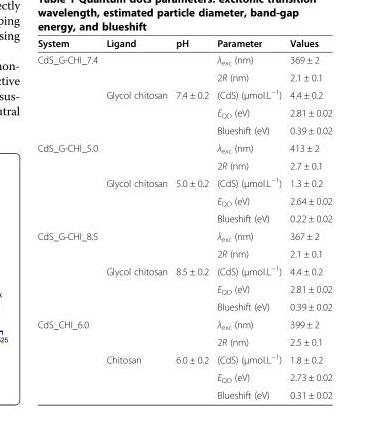table: (36, 37, 331, 400)
table column: (212, 37, 285, 400), (101, 37, 171, 400), (36, 37, 101, 400), (285, 37, 331, 400), (171, 37, 212, 400)
table column header: (36, 37, 331, 50)
table row: (36, 226, 331, 245), (36, 279, 331, 298), (36, 314, 331, 333), (36, 349, 331, 368), (36, 50, 331, 68), (36, 85, 331, 103), (36, 103, 331, 121), (36, 138, 331, 156), (36, 173, 331, 191), (36, 191, 331, 209), (36, 261, 331, 279), (36, 368, 331, 386), (36, 68, 331, 85), (36, 121, 331, 138), (36, 156, 331, 173), (36, 209, 331, 226), (36, 245, 331, 261), (36, 298, 331, 314), (36, 333, 331, 349), (36, 386, 331, 400), (36, 37, 331, 50)
table spanning cell: (36, 50, 101, 138), (36, 138, 101, 226), (36, 226, 101, 314), (36, 314, 101, 400)
